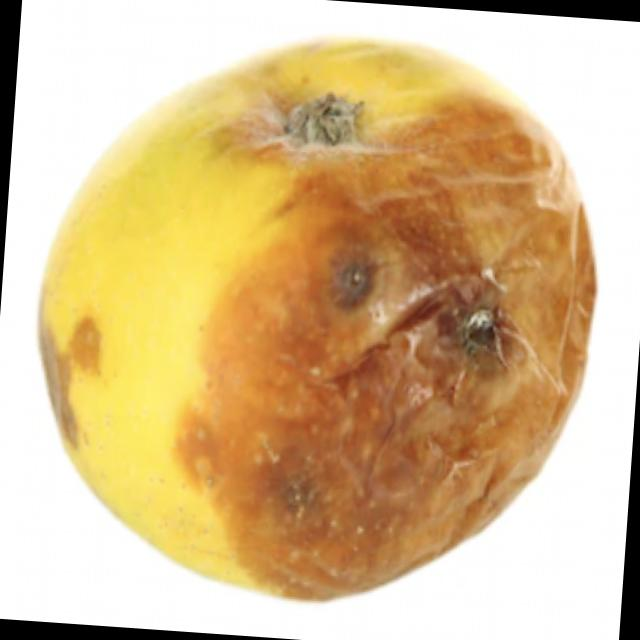rotten_apple: (17, 18, 611, 614)
